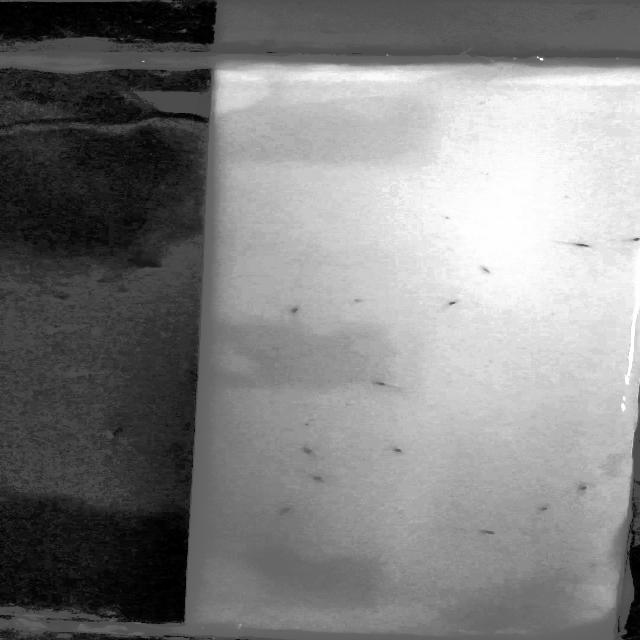shrimp: (559, 238, 609, 254), (457, 525, 505, 539), (304, 469, 333, 488), (571, 477, 599, 496), (378, 440, 411, 456), (473, 261, 498, 281), (536, 499, 560, 519), (358, 377, 392, 391), (272, 501, 300, 518), (299, 445, 330, 460), (440, 299, 468, 310), (288, 306, 314, 317), (352, 296, 373, 309), (623, 233, 640, 243)
